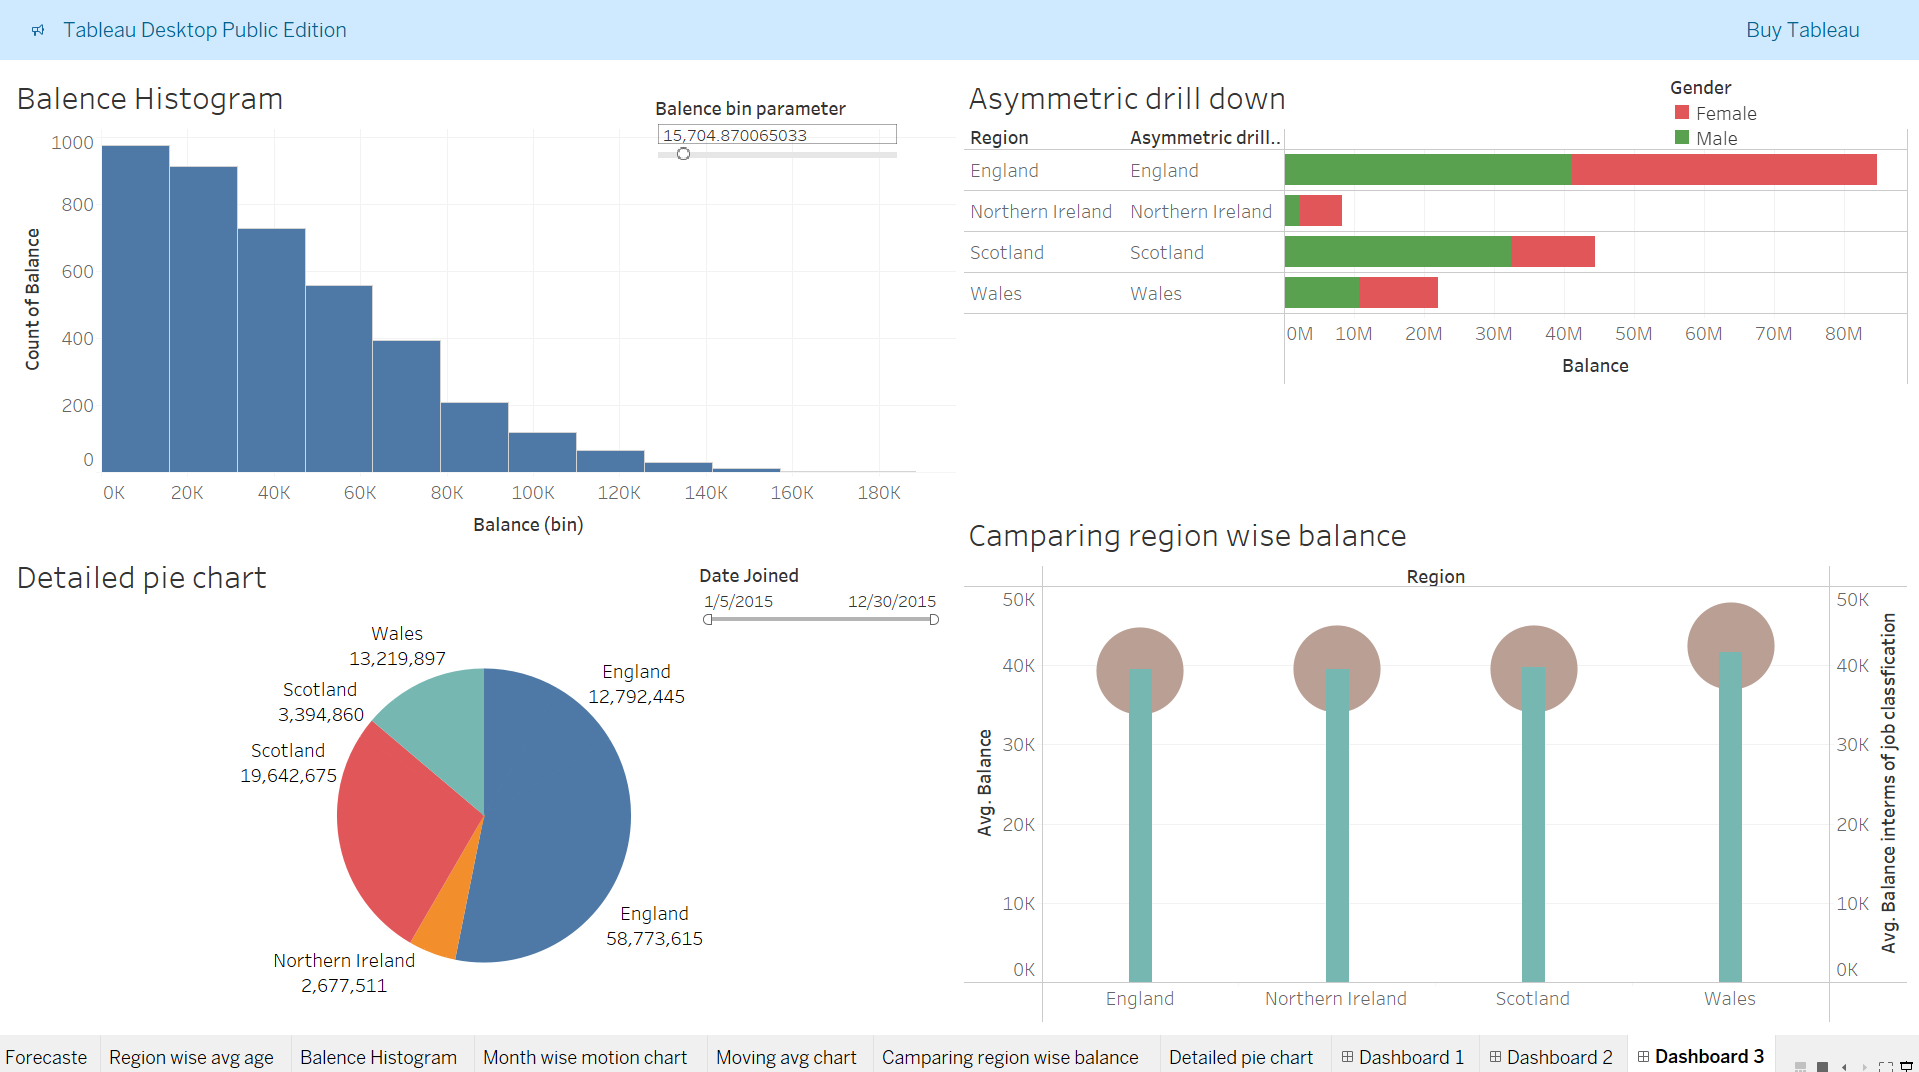

The page's visual inventory and layout, read from the dashboard file:
{"tool":"tableau","page":{"name":"Dashboard 3","canvas":[1000,1000],"units":"permille","ordinal":2},"visuals":[{"type":"worksheet","title":"Balence Histogram","mark":"Bar","rows":["Balance"],"cols":["Balance (bin)"],"box":[5,10.7,494.9,489.1]},{"type":"worksheet","title":"Asymmetric drill down","mark":"Automatic","rows":["Region","Calculation_1801158417252790272"],"cols":["Balance"],"box":[499.9,10.7,495.1,446.3]},{"type":"legend","title":"Asymmetric drill down","param":"[federated.0ta6q1i1do6p6o185keex0jybwxv].[none:Gender:nk]","box":[869.7,14.8,102.9,99.2]},{"type":"parameter","param":"[Parameters].[Parameter 2]","box":[341,36.2,127.8,108.6]},{"type":"worksheet","title":"Camparing region wise balance","mark":"Automatic","rows":["Balance","Calculation_1483654643765460994"],"cols":["Region"],"box":[499.9,457.1,495.1,532.2]},{"type":"worksheet","title":"Detailed pie chart","mark":"Pie","box":[5,499.9,494.9,489.4]},{"type":"filter","title":"Detailed pie chart","param":"[federated.0ta6q1i1do6p6o185keex0jybwxv].[none:Date Joined:qk]","box":[364.1,514.8,127.2,93.8]}]}

Visuals, with their boxes on the dashboard's canvas, which has no fixed pixel size, in thousandths of its width and height (x1, y1, x2, y2). These are canvas units, not pixel positions in the 1919x1072 screenshot, which may show the page scaled, cropped or inside an application window:
"Balence Histogram" worksheet (Bar marks): pyautogui.locateOnScreen(5, 11, 500, 500)
"Asymmetric drill down" worksheet: pyautogui.locateOnScreen(500, 11, 995, 457)
"Asymmetric drill down" legend: pyautogui.locateOnScreen(870, 15, 973, 114)
parameter: pyautogui.locateOnScreen(341, 36, 469, 145)
"Camparing region wise balance" worksheet: pyautogui.locateOnScreen(500, 457, 995, 989)
"Detailed pie chart" worksheet (Pie marks): pyautogui.locateOnScreen(5, 500, 500, 989)
"Detailed pie chart" filter: pyautogui.locateOnScreen(364, 515, 491, 609)
